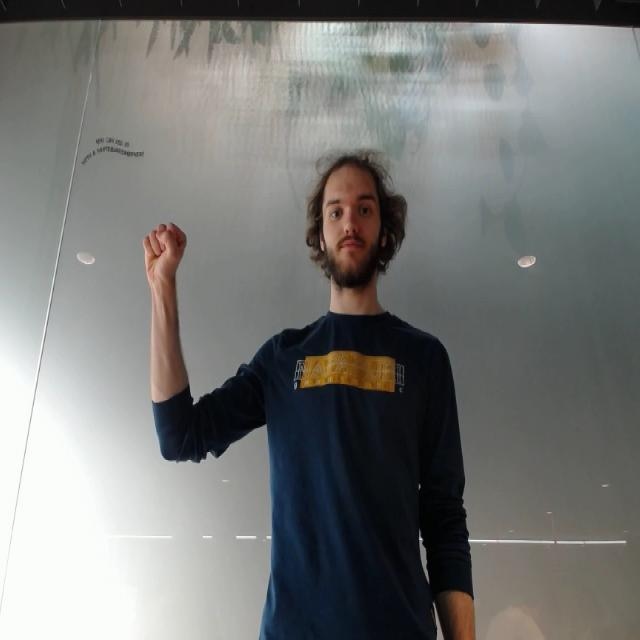stop: (137, 217, 188, 273)
